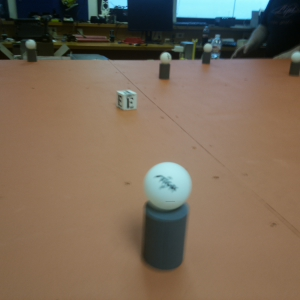blockE: (115, 87, 138, 111)
obstacle: (142, 161, 194, 273), (24, 40, 40, 63), (160, 51, 171, 83), (287, 52, 300, 79), (202, 45, 212, 64)
